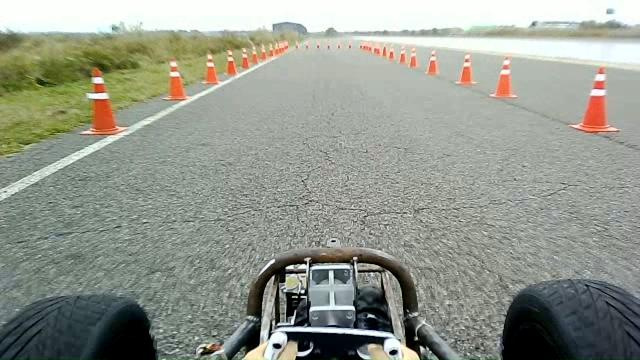red cone: (569, 65, 620, 133), (78, 66, 128, 135), (489, 55, 518, 99), (162, 57, 189, 100), (455, 52, 478, 85), (201, 50, 220, 84), (425, 49, 440, 75), (224, 49, 238, 76), (240, 47, 250, 69), (397, 45, 407, 65), (409, 46, 418, 68), (251, 46, 259, 64), (260, 43, 267, 60)
